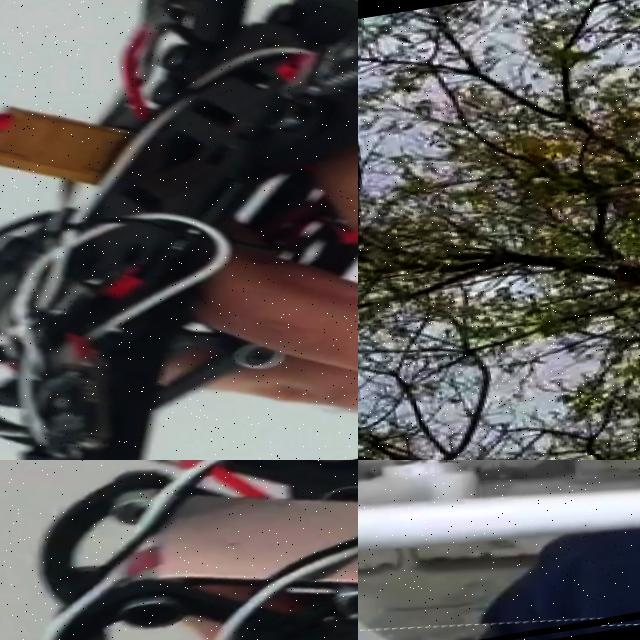drone: (0, 0, 358, 460), (0, 460, 358, 640), (358, 460, 640, 640)
